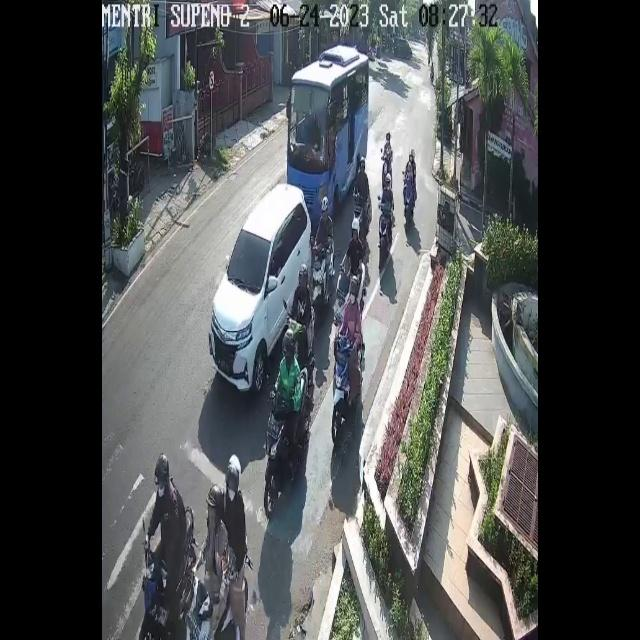bus: (265, 366, 312, 522), (141, 506, 194, 640), (187, 532, 249, 640), (331, 332, 361, 445), (287, 304, 315, 364), (336, 263, 366, 317), (312, 241, 334, 312), (379, 199, 393, 271), (352, 188, 371, 225), (404, 171, 416, 227), (384, 152, 391, 181)
car: (288, 44, 367, 224)
motorcycle: (211, 182, 313, 394)
